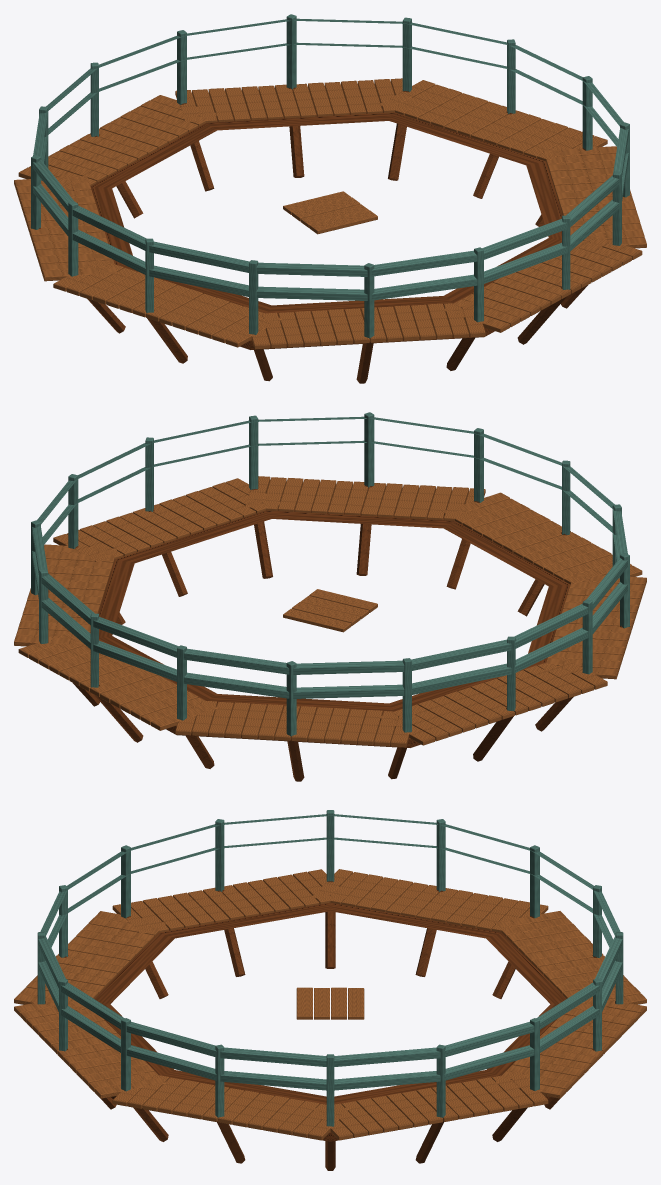
The model's file is mill-stage-gallery.glb.
3 views of the same model, one above another, from view 1: azimuth 30°, elevation 25°; view 2: azimuth 150°, elevation 25°; view 3: azimuth 270°, elevation 25° (orthographic). The views are drawn at different scales.
Visible parts, largest first — view 1: mill-stage-gallery; view 2: mill-stage-gallery; view 3: mill-stage-gallery.
Part boxes in pixels (box(x1,y1,x2,y2)): mill-stage-gallery: box(14, 14, 646, 383); mill-stage-gallery: box(14, 412, 646, 781); mill-stage-gallery: box(14, 810, 646, 1170).
Size of the model in its own units: 8.34 by 1.99 by 8.34.
Materials: 3 (3 with a texture image).
